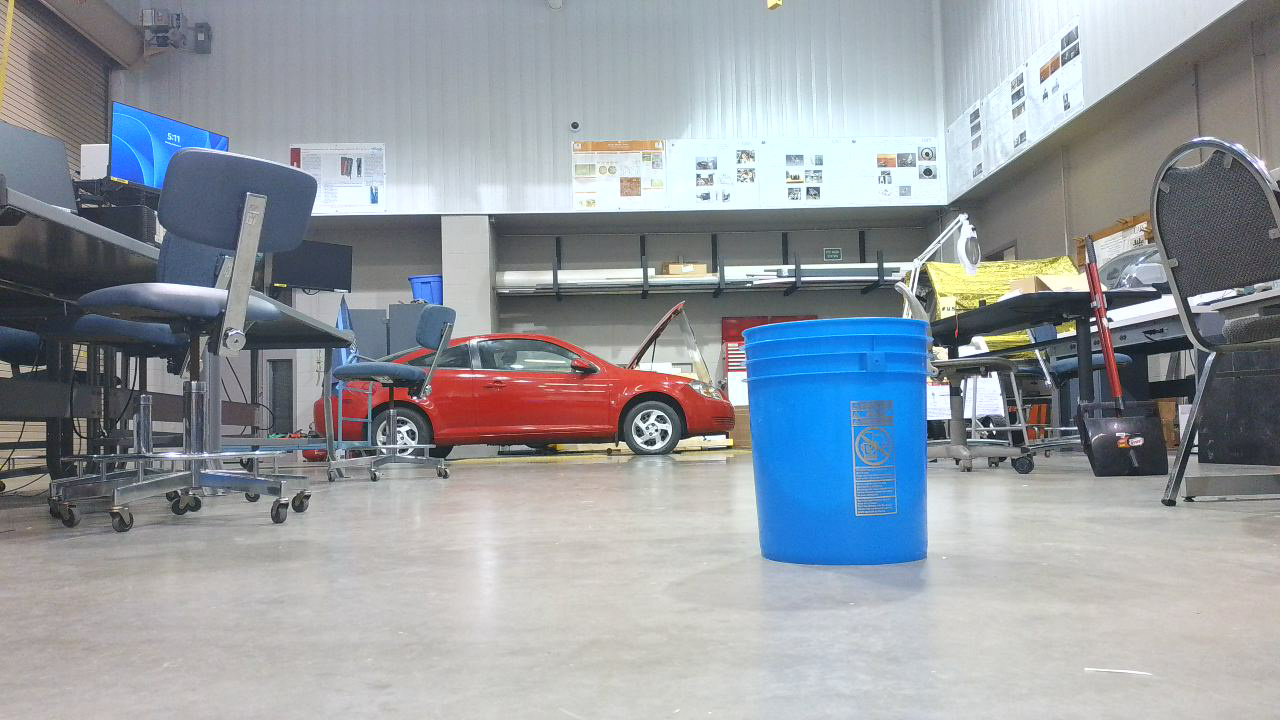blue_bucket: (746, 322, 938, 573)
